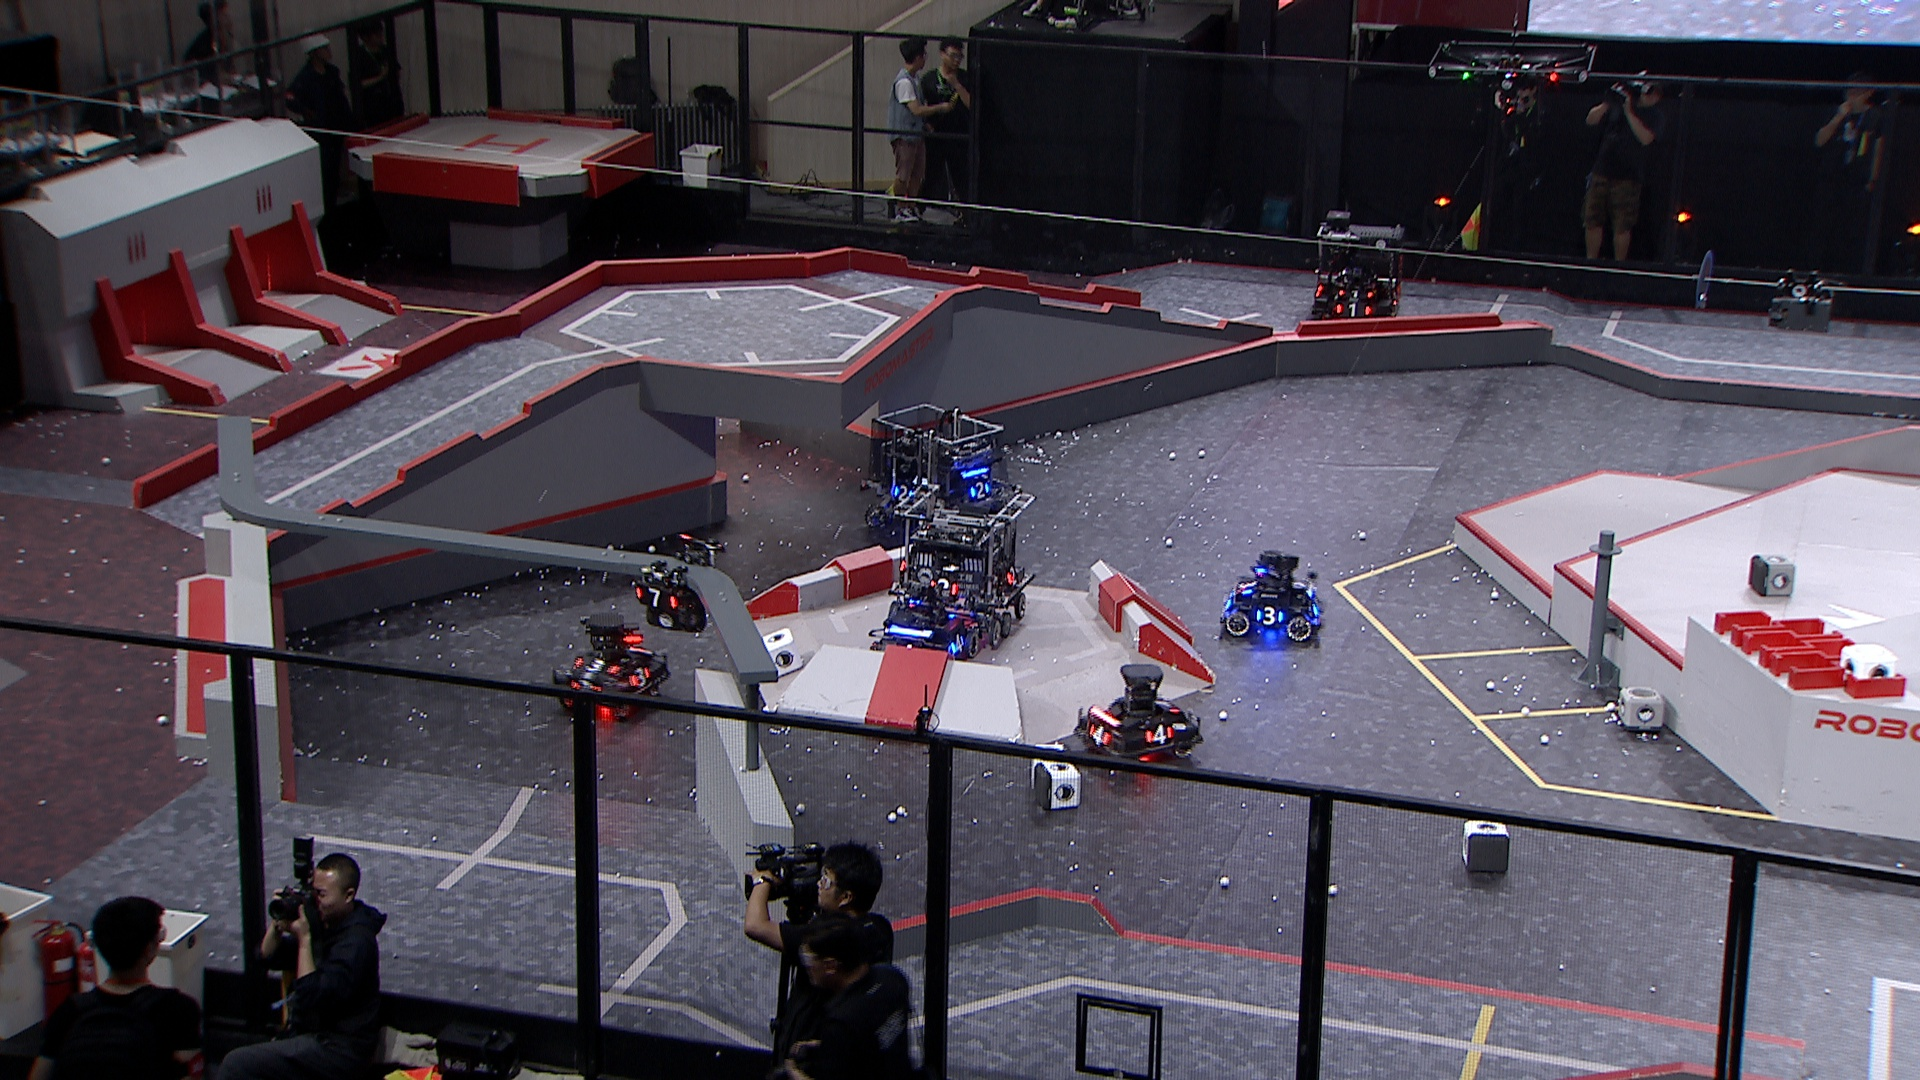armor: (636, 584, 680, 611), (575, 655, 622, 676), (1145, 721, 1178, 746), (1253, 604, 1286, 629), (1333, 302, 1375, 319), (927, 578, 960, 597), (1154, 695, 1182, 716), (1335, 287, 1375, 301), (628, 665, 651, 687), (891, 483, 916, 504), (1236, 578, 1258, 600), (1091, 723, 1112, 746), (570, 679, 603, 694), (971, 481, 992, 501), (949, 632, 968, 654), (1006, 564, 1021, 589), (1390, 291, 1403, 309)
car: (889, 484, 1039, 647), (860, 405, 1010, 542), (1073, 661, 1207, 771), (556, 611, 674, 723), (1313, 208, 1404, 328), (868, 579, 982, 674), (1220, 547, 1320, 647)
watcher: (632, 531, 724, 636)
